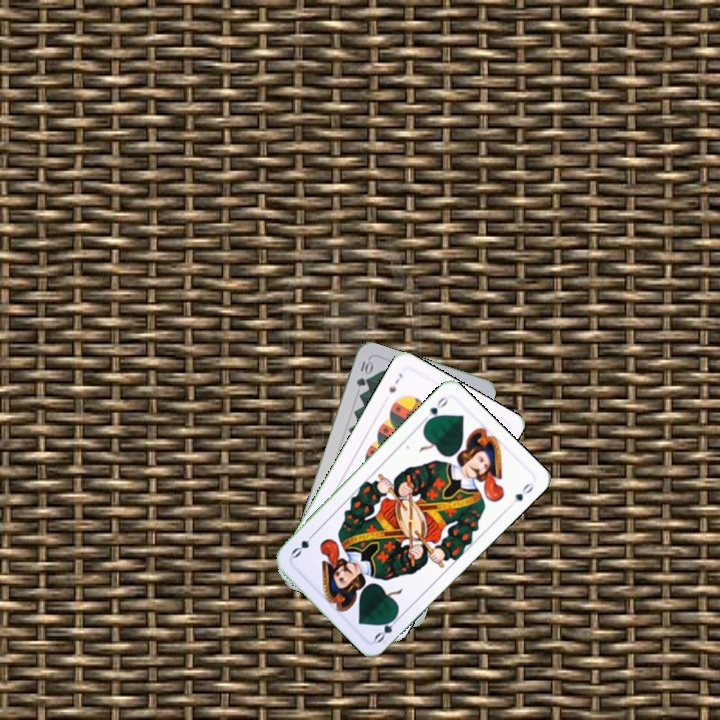G10: (352, 355, 374, 390)
GO: (370, 610, 404, 646), (418, 393, 451, 427)
S7: (385, 369, 405, 395)
